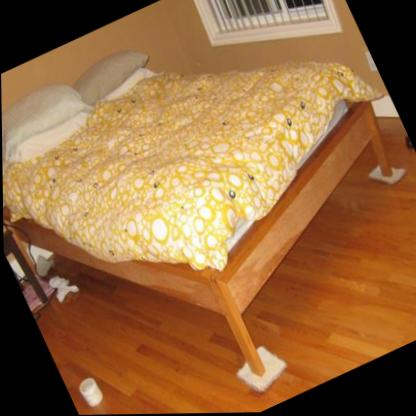Bed: (1, 51, 405, 378)
Wooden floor: (241, 149, 416, 385)
